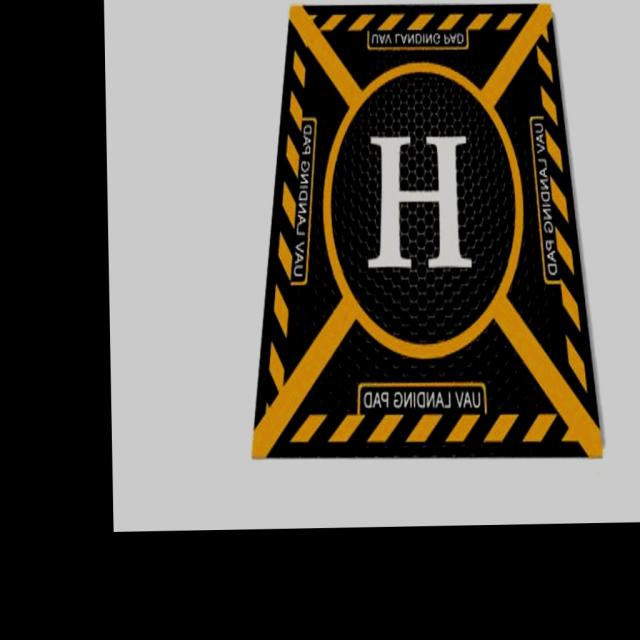helipad: (320, 58, 528, 362)
